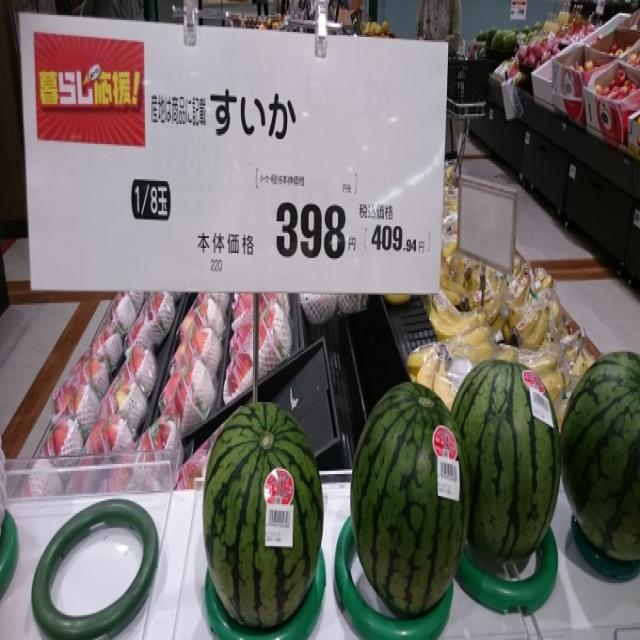watermelon: (348, 377, 467, 620), (202, 402, 324, 633), (450, 359, 562, 563), (560, 350, 640, 561)
